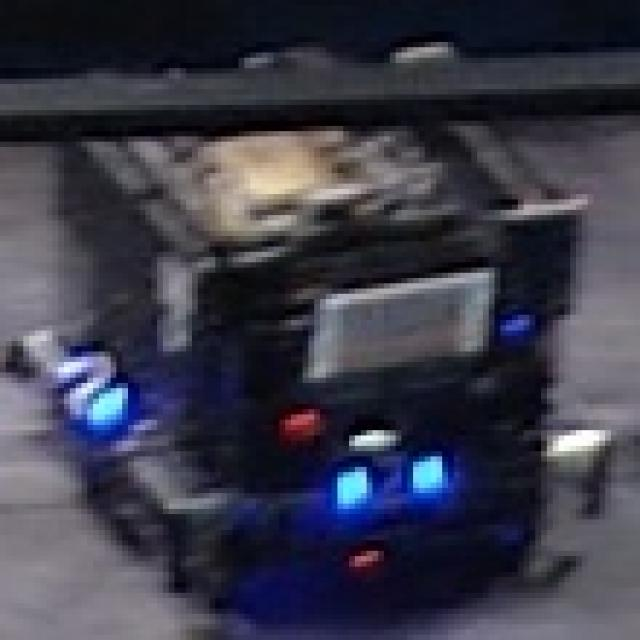B2: (332, 451, 448, 514), (52, 351, 128, 425)
